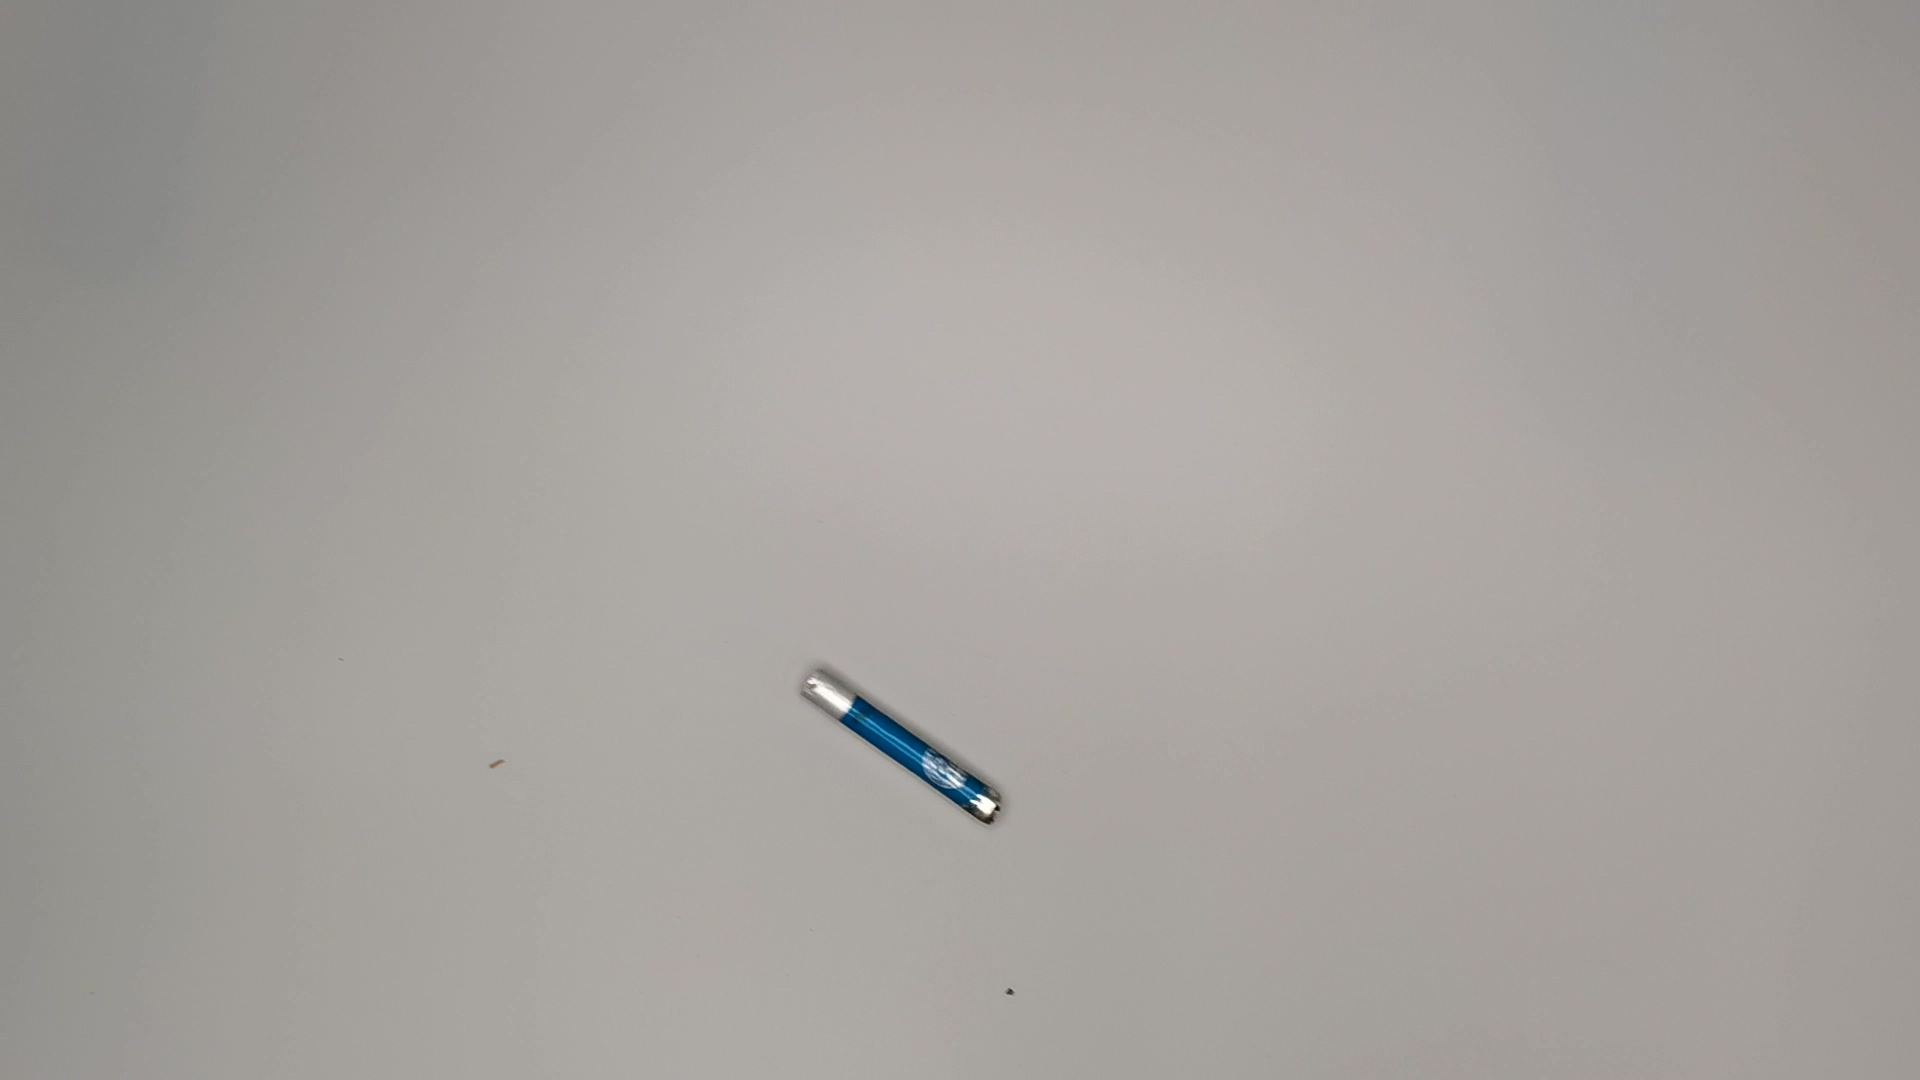cigarette: (793, 669, 1010, 827)
